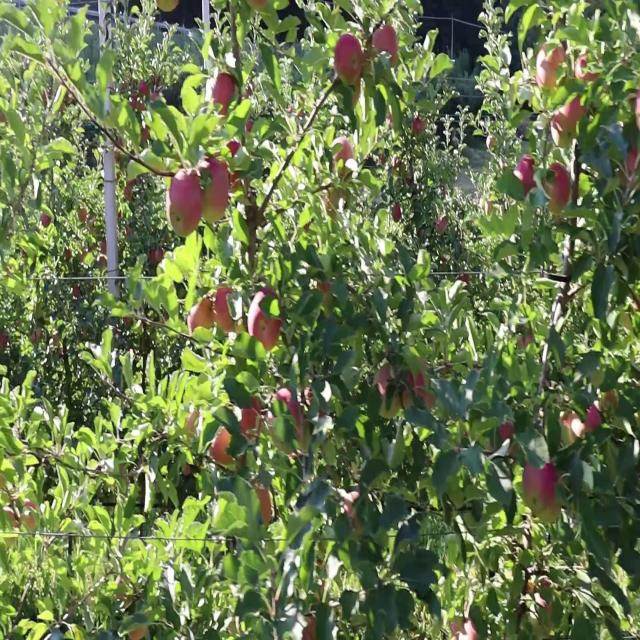apple: (168, 170, 204, 233), (248, 291, 283, 352), (200, 156, 231, 220), (269, 391, 304, 444), (524, 462, 559, 510), (269, 391, 303, 437), (536, 42, 567, 91), (336, 35, 364, 85), (372, 21, 400, 68), (212, 71, 238, 116), (548, 163, 572, 210), (528, 575, 554, 617), (240, 398, 264, 441), (188, 298, 215, 336), (216, 291, 237, 334), (212, 426, 233, 468), (516, 156, 536, 197), (576, 56, 599, 91), (536, 575, 554, 617), (560, 412, 584, 443), (332, 142, 355, 174), (228, 142, 242, 188), (620, 149, 640, 181), (256, 490, 273, 526), (568, 99, 586, 133), (376, 362, 392, 400), (416, 383, 436, 411), (452, 618, 478, 639), (344, 490, 360, 524), (624, 149, 640, 180), (552, 113, 571, 139), (588, 405, 602, 434), (416, 391, 436, 411), (500, 419, 516, 443), (412, 113, 428, 137), (24, 504, 38, 530), (148, 248, 165, 268), (156, 0, 180, 14), (412, 369, 426, 393), (316, 277, 332, 297), (188, 412, 200, 436), (124, 177, 135, 203), (304, 618, 317, 638), (32, 327, 44, 348), (604, 391, 619, 407), (520, 334, 535, 348), (244, 120, 255, 137), (436, 220, 448, 235), (392, 206, 403, 222), (404, 391, 413, 409), (636, 92, 640, 132), (72, 284, 81, 299), (80, 206, 88, 222), (44, 213, 52, 228), (4, 334, 8, 347)
